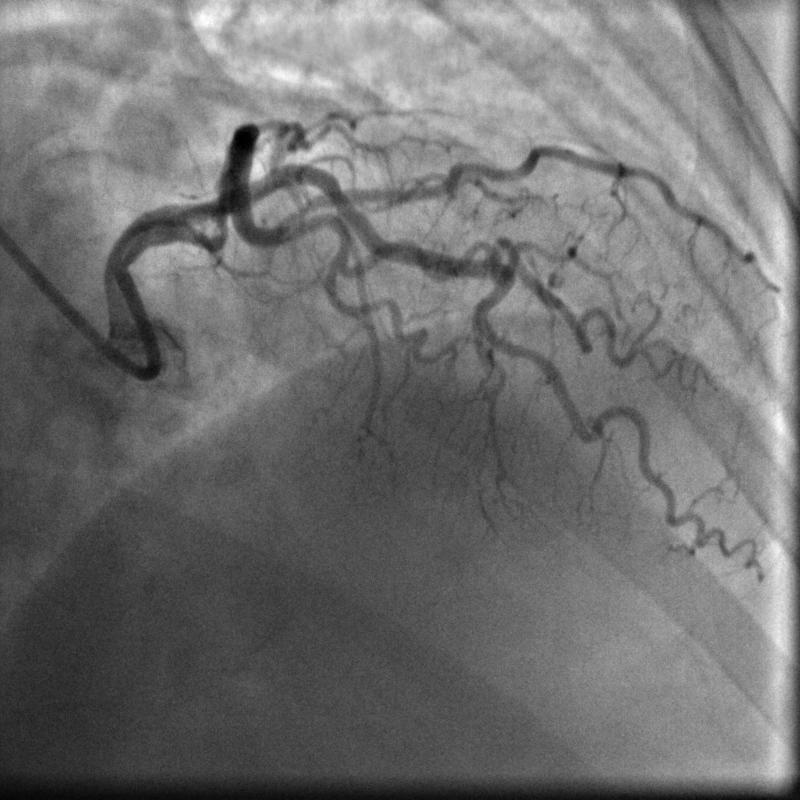Stenosis: (204, 193, 239, 248)
